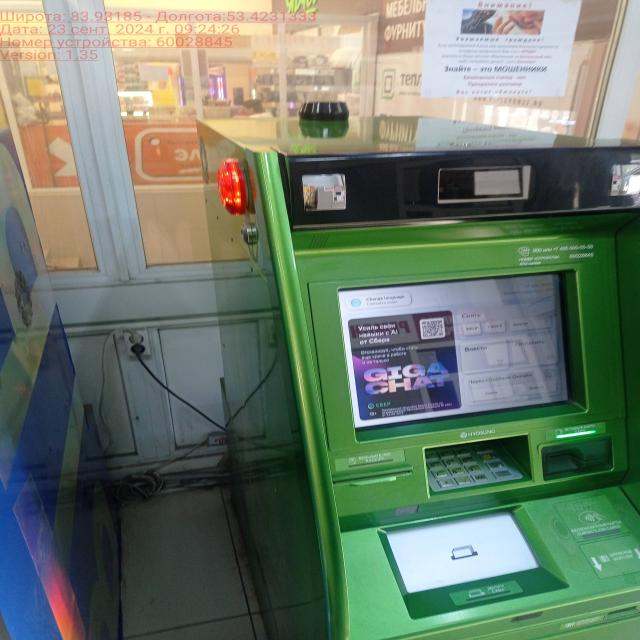bank: (203, 107, 640, 640)
